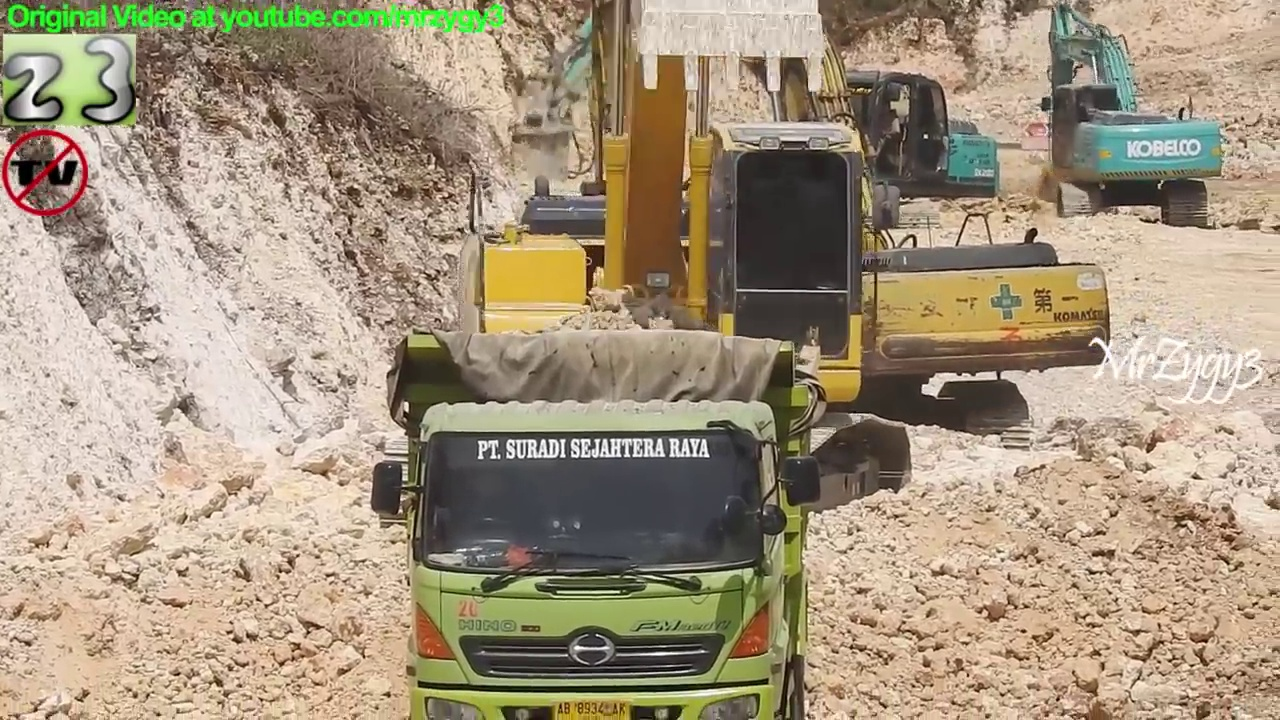excavator: (373, 1, 920, 551), (545, 1, 1122, 474), (495, 1, 1010, 244), (1023, 1, 1230, 236)
truck: (365, 323, 835, 720)
